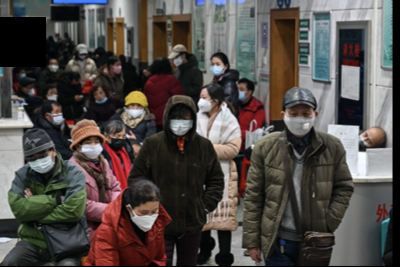mask_weared_incorrect: (93, 89, 107, 104)
with_mask: (283, 108, 316, 137), (131, 205, 160, 232), (26, 151, 54, 174), (168, 113, 194, 137), (80, 136, 103, 161), (108, 133, 127, 152), (358, 129, 373, 152), (127, 101, 144, 119), (197, 94, 213, 113), (50, 107, 64, 125), (209, 60, 223, 76), (47, 58, 59, 72), (238, 85, 247, 103), (172, 54, 184, 66), (26, 81, 34, 97), (113, 61, 122, 74), (48, 89, 57, 101), (18, 68, 26, 80), (72, 79, 81, 89), (79, 51, 87, 60)
